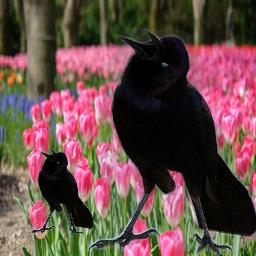Crow: (88, 28, 256, 255), (29, 149, 93, 236)
